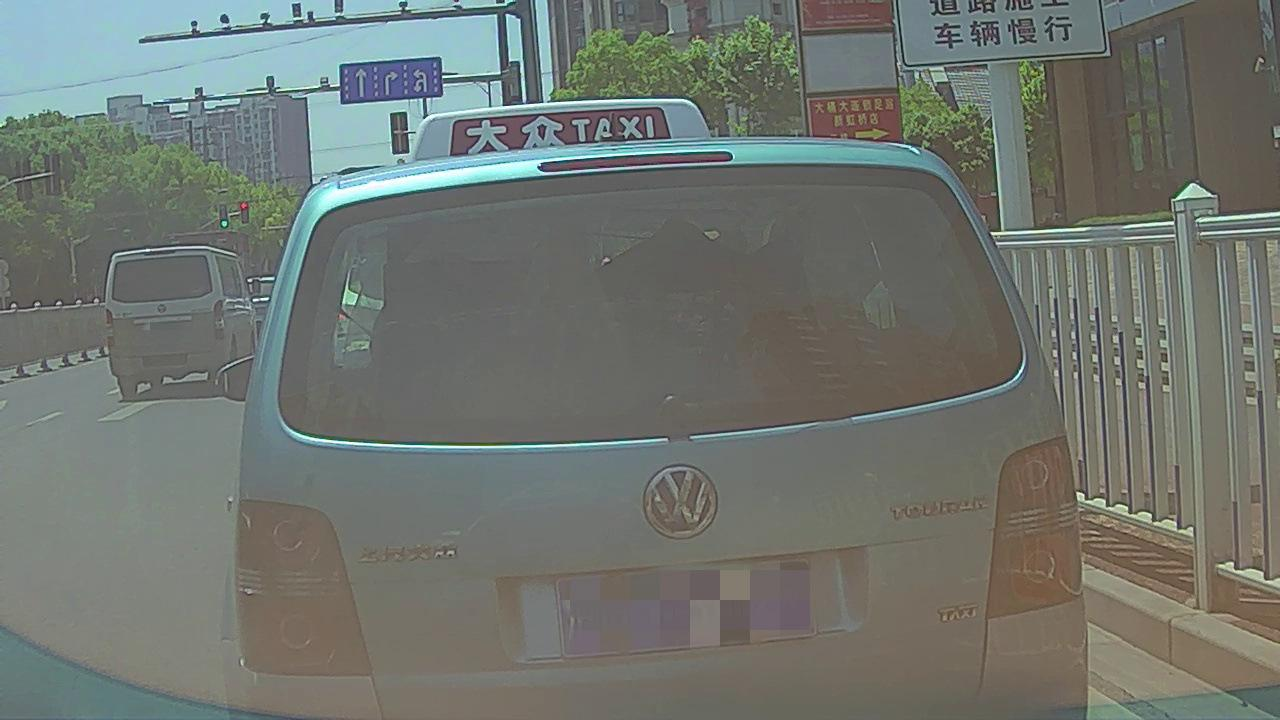traffic_light: (219, 205, 229, 228), (240, 202, 250, 225)
